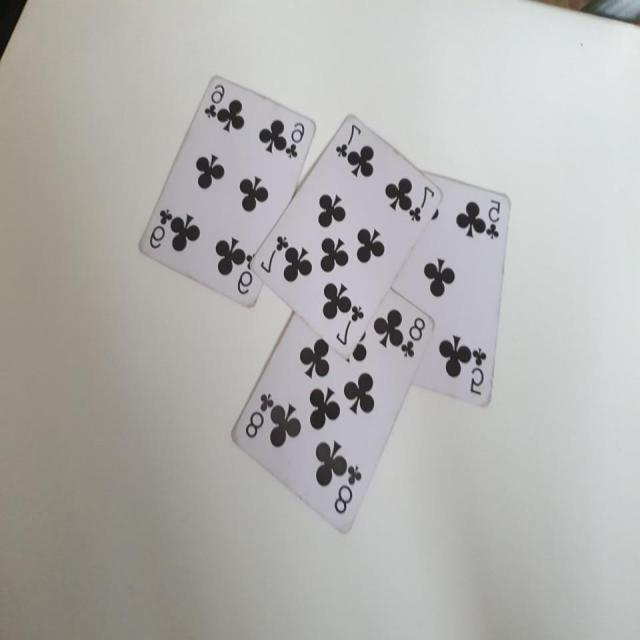5 of clubs: (390, 171, 512, 409)
6 of clubs: (136, 73, 316, 310)
7 of clubs: (250, 109, 444, 360)
8 of clubs: (230, 290, 433, 536)
